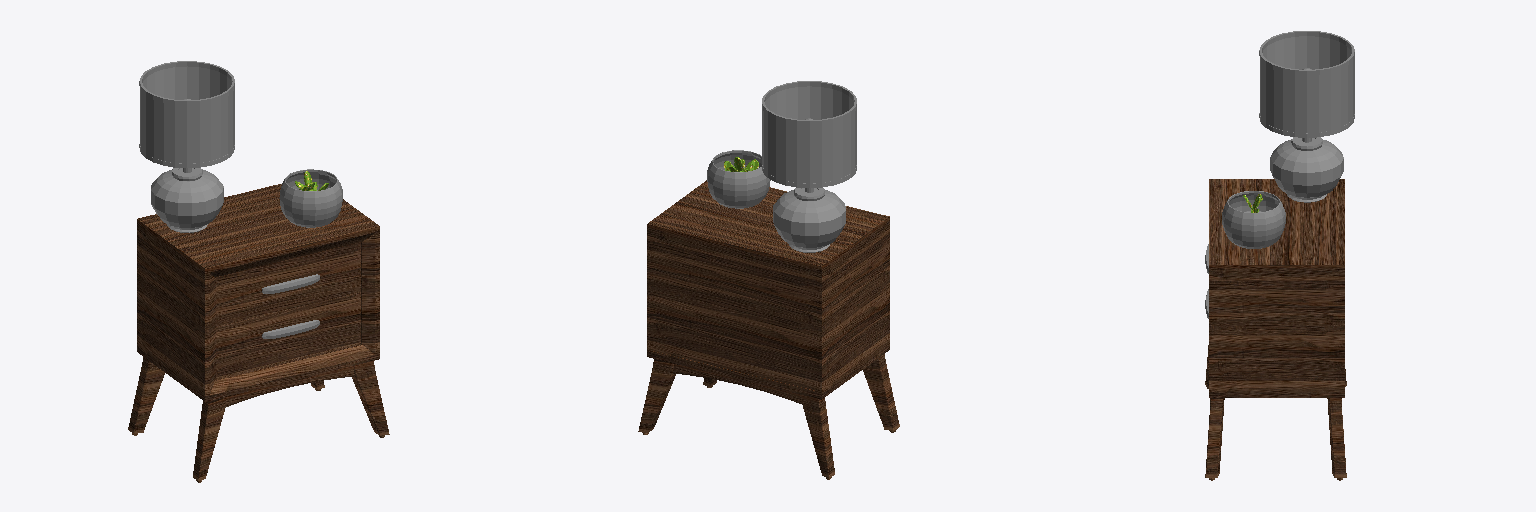
3 views of the same model, side by side, from view 1: azimuth 30°, elevation 25°; view 2: azimuth 150°, elevation 25°; view 3: azimuth 270°, elevation 25° (orthographic).
Visible parts, largest first — view 1: Nightstand, tela001, Base, maseta, Lamp, manijas; view 2: Nightstand, tela001, Base, maseta, Lamp; view 3: Nightstand, tela001, Base, maseta, Lamp.
Boxes of the visible parts, box(x1,y1,x2,y2) form: Nightstand: box(128, 184, 389, 482); tela001: box(140, 88, 234, 163); Base: box(139, 61, 234, 232); maseta: box(279, 169, 342, 227); Lamp: box(143, 66, 231, 99); manijas: box(262, 274, 319, 338); Nightstand: box(638, 180, 899, 479); tela001: box(762, 108, 856, 183); Base: box(762, 81, 856, 252); maseta: box(707, 150, 770, 208); Lamp: box(765, 86, 853, 119); Nightstand: box(1205, 179, 1346, 480); tela001: box(1260, 57, 1354, 132); Base: box(1259, 31, 1354, 202); maseta: box(1222, 191, 1285, 248); Lamp: box(1263, 36, 1351, 69).
Bounding box in the file's own units: 24.84 × 43.85 × 16.71.
8 materials, 2 textured.